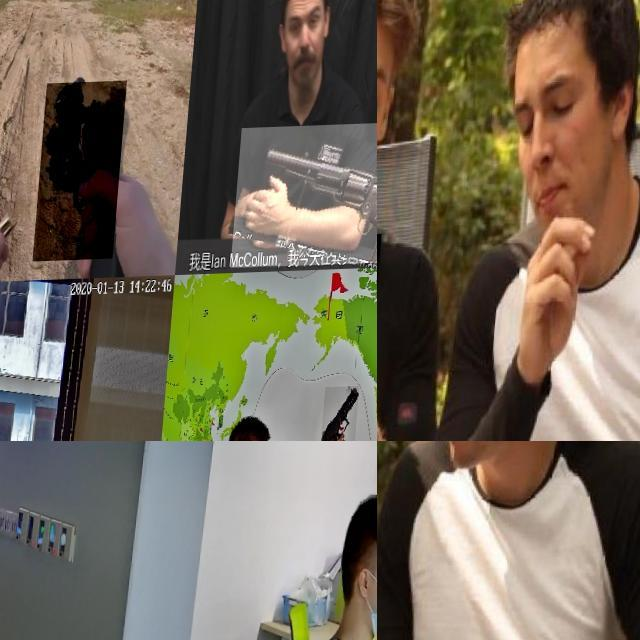-: (377, 235, 419, 417), (377, 441, 424, 600)
gun-knife-thesis - v11 Yolov5 augmented: (235, 125, 377, 271), (38, 82, 129, 262), (0, 371, 32, 441), (327, 390, 367, 441)
